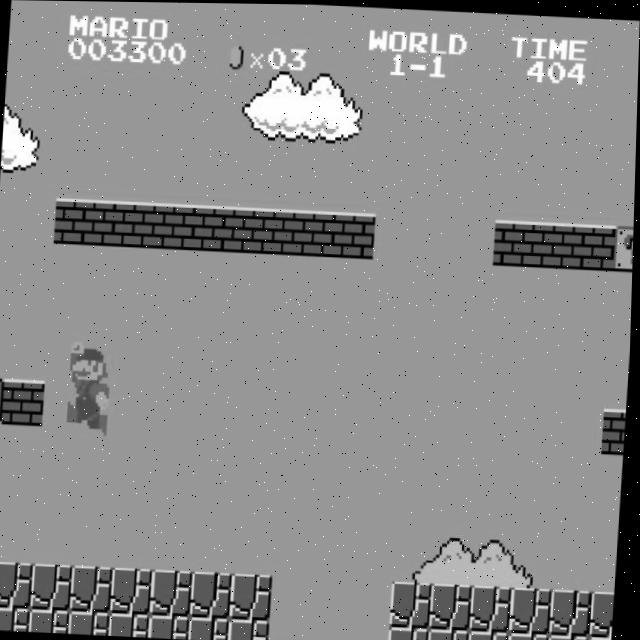0- big_mario: (66, 339, 114, 434)
1- brick_block: (3, 378, 47, 426), (213, 205, 257, 252), (253, 207, 297, 254), (493, 218, 537, 265), (533, 220, 577, 267), (54, 198, 98, 244), (94, 200, 138, 246), (134, 202, 178, 248), (174, 204, 218, 250), (293, 209, 337, 255), (333, 211, 377, 257), (573, 222, 617, 268), (603, 406, 628, 453)
13- mystery_block: (614, 223, 635, 269)
17- undestructible_block: (32, 563, 76, 611), (72, 565, 116, 613), (112, 566, 156, 614), (152, 568, 196, 616), (192, 570, 236, 618), (232, 572, 276, 620), (472, 583, 516, 631), (512, 585, 556, 633), (552, 587, 596, 635), (392, 580, 436, 627), (432, 582, 476, 629), (0, 561, 36, 609), (592, 589, 617, 636), (31, 609, 74, 633), (71, 610, 114, 634), (111, 612, 154, 636), (151, 614, 194, 638), (191, 616, 234, 640), (231, 618, 274, 640), (0, 607, 34, 631), (390, 625, 433, 640), (430, 627, 473, 640), (470, 629, 512, 640), (510, 630, 552, 640), (550, 633, 592, 640), (591, 634, 614, 640)
3- empty_block: (0, 376, 6, 423)
